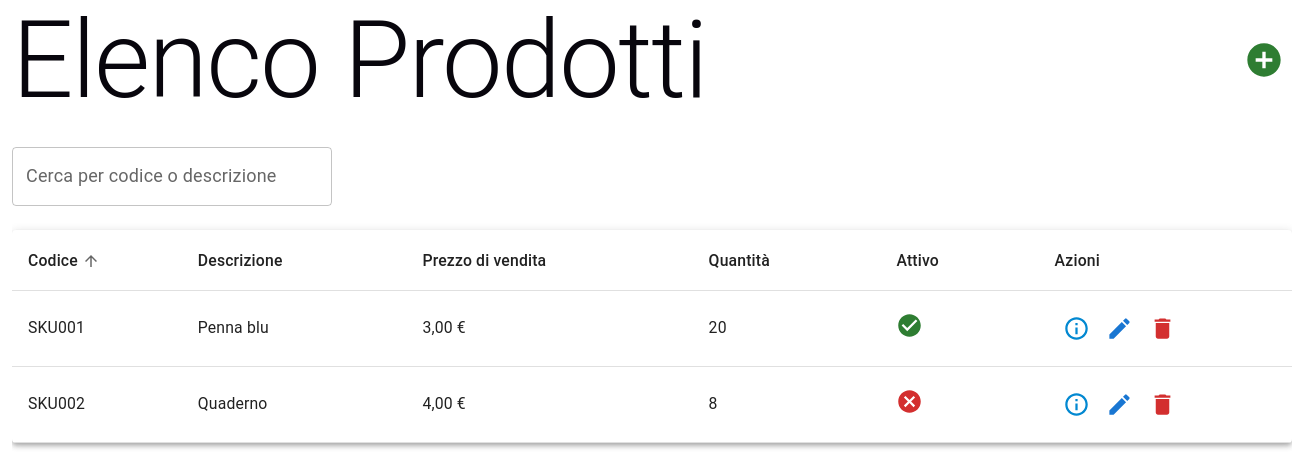
it: Prodotti › elenca e filtra i prodotti per codice o descrizione
The width and height of the screenshot is (1304, 466).
Expected: the text "Penna blu" is shown, 182,291 -> 406,367
Step 1. Type "quaderno" into the field labelled "Cerca per codice o descrizione" → [172, 176], box 12,147 -> 332,206
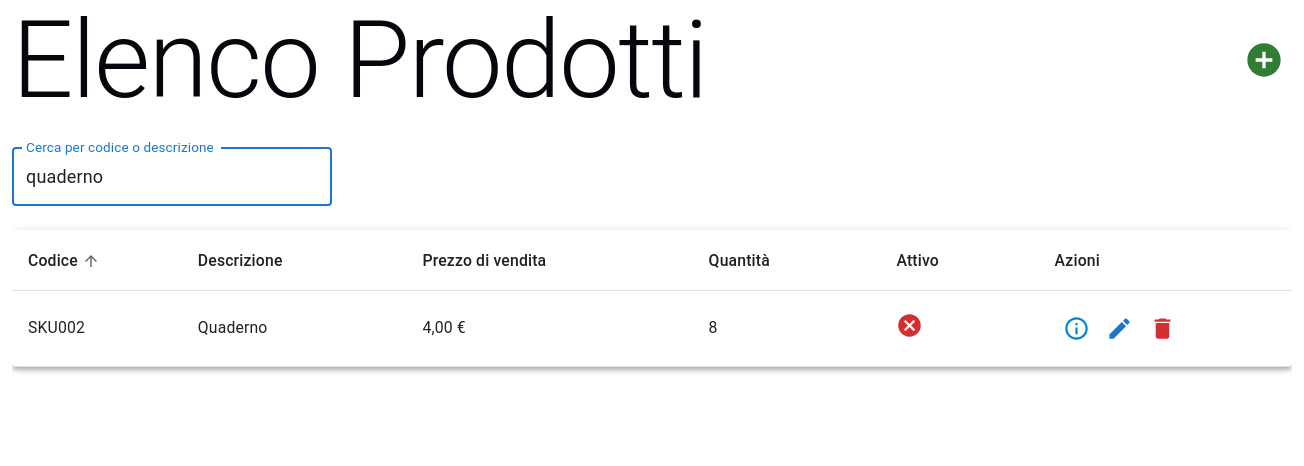
Expected: the text "Quaderno" is shown, 182,291 -> 406,367
Expected: the text "Penna blu" is gone
